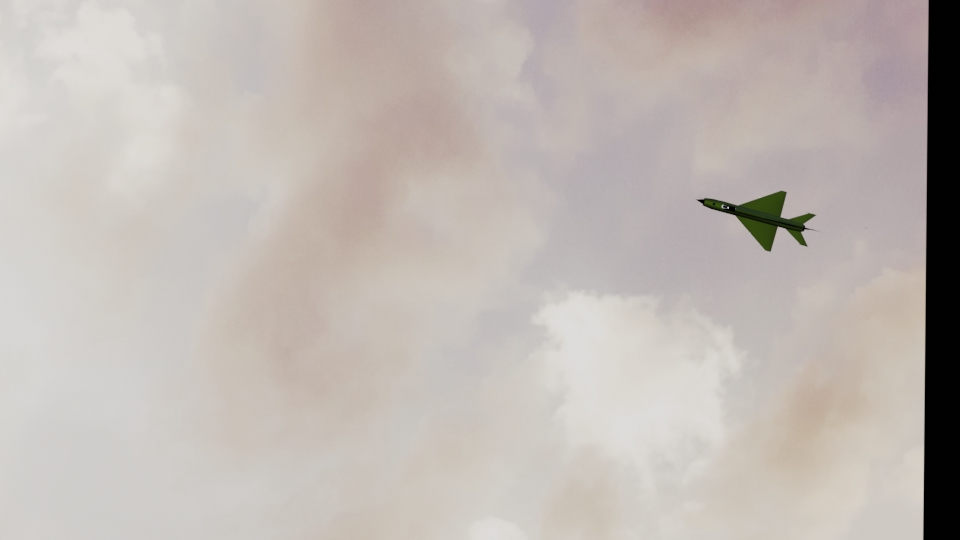plane: (696, 189, 818, 249)
